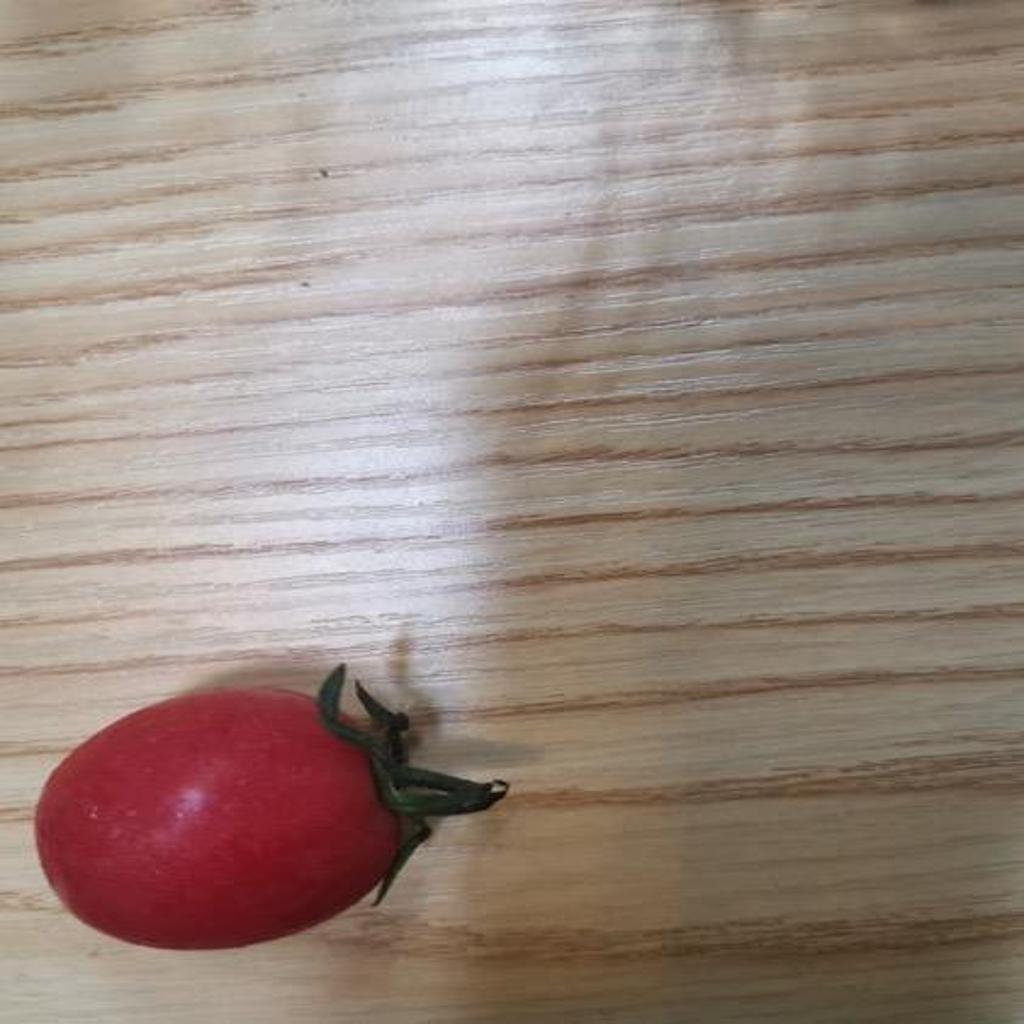tomato: (42, 660, 433, 959)
